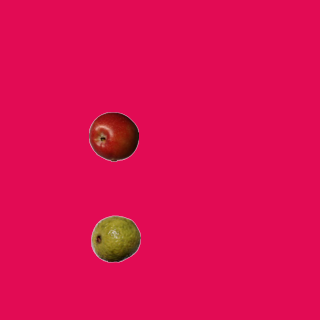Apple Braeburn: (88, 111, 138, 161)
Guava: (90, 213, 140, 263)
